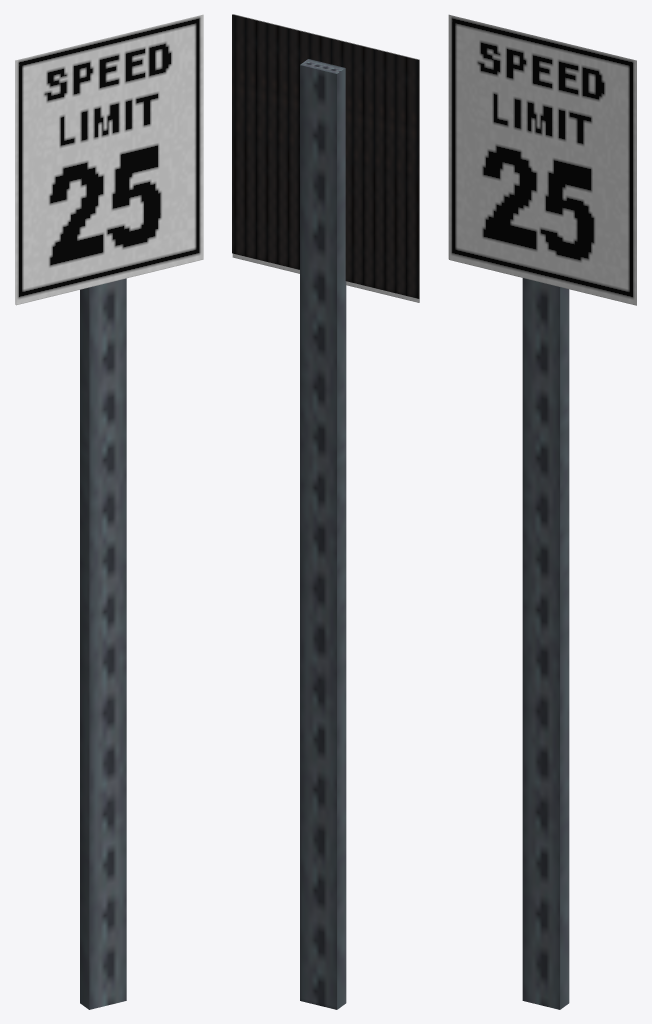
The model's file is BLOCKYGON_SPEED LIMIT(25).fbx.
3 views of the same model, side by side, from view 1: azimuth 30°, elevation 25°; view 2: azimuth 150°, elevation 25°; view 3: azimuth 330°, elevation 25° (orthographic).
Parts seen in each view (by area): view 1: BLOCKYGON_SPEED_LIMIT_25_; view 2: BLOCKYGON_SPEED_LIMIT_25_; view 3: BLOCKYGON_SPEED_LIMIT_25_.
Boxes of the visible parts, x1=… form: BLOCKYGON_SPEED_LIMIT_25_: x1=15, y1=14, x2=203, y2=1009; BLOCKYGON_SPEED_LIMIT_25_: x1=232, y1=14, x2=419, y2=1009; BLOCKYGON_SPEED_LIMIT_25_: x1=448, y1=14, x2=636, y2=1009.
Size of the model in its own units: 45.76 by 225 by 3.9.
